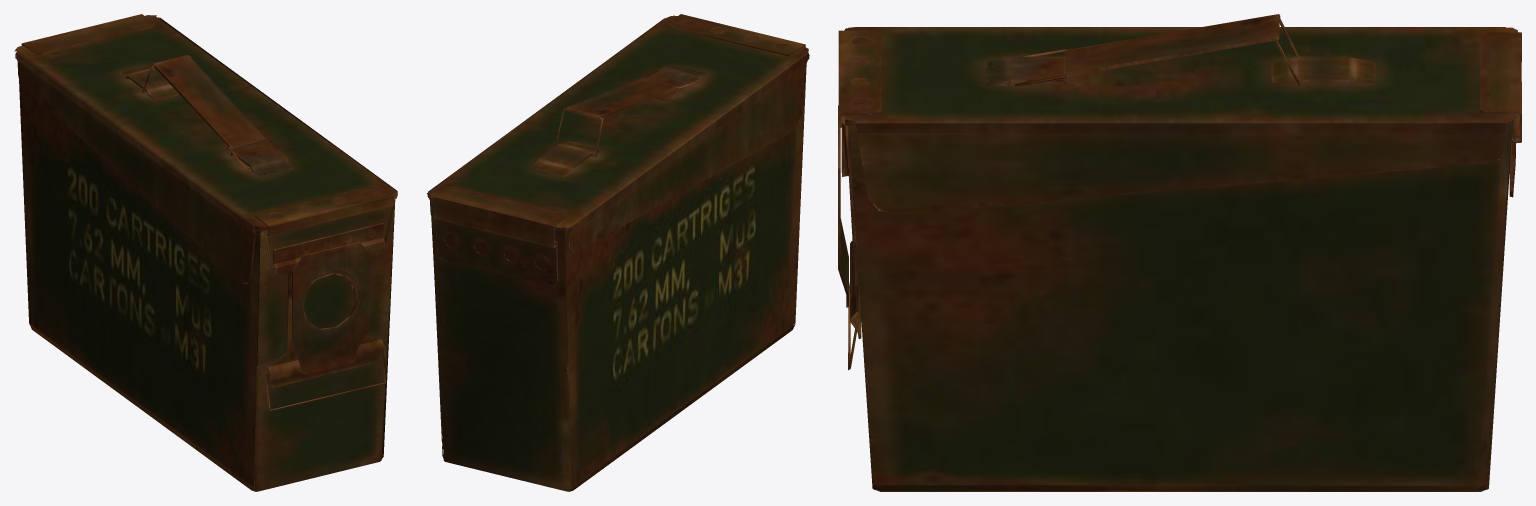
File: ammo.glb
3 views of the same model, side by side, from view 1: azimuth 30°, elevation 25°; view 2: azimuth 150°, elevation 25°; view 3: azimuth 270°, elevation 25° (orthographic). The views are drawn at different scales.
Parts seen in each view (by area): view 1: ammo_box_handle_ring_b; view 2: ammo_box_handle_ring_b; view 3: ammo_box_handle_ring_b.
Boxes of the visible parts, x1=… form: ammo_box_handle_ring_b: x1=14, y1=14, x2=397, y2=491; ammo_box_handle_ring_b: x1=427, y1=14, x2=809, y2=491; ammo_box_handle_ring_b: x1=838, y1=14, x2=1521, y2=491.
Size of the model in its own units: 0.0865 by 0.1774 by 0.2577.
Materials: 1 (1 with a texture image).
